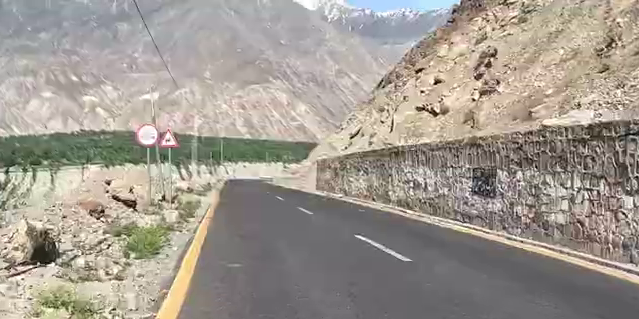left: (217, 189, 480, 310)
